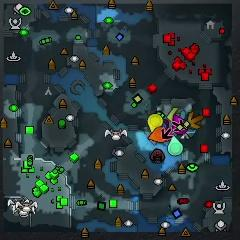p2: (168, 136, 183, 155)
p3: (173, 113, 188, 134)
p4: (148, 113, 163, 133)
p5: (148, 126, 169, 143)
x1Clone: (161, 126, 173, 140), (172, 119, 184, 132)
x2: (167, 107, 179, 121)
x5: (188, 111, 203, 129)
